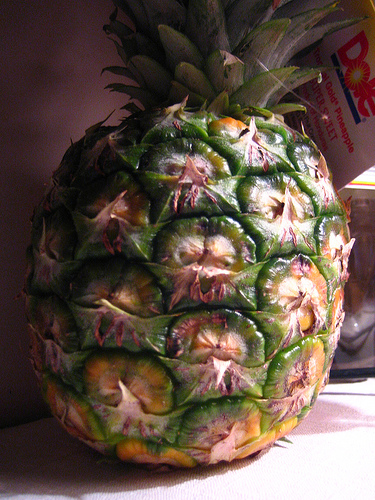pineapple: (16, 0, 357, 475)
